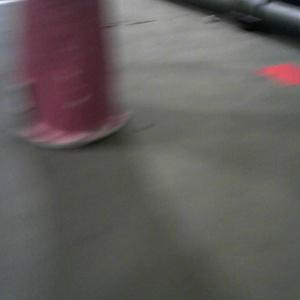middle: (6, 1, 131, 146)
